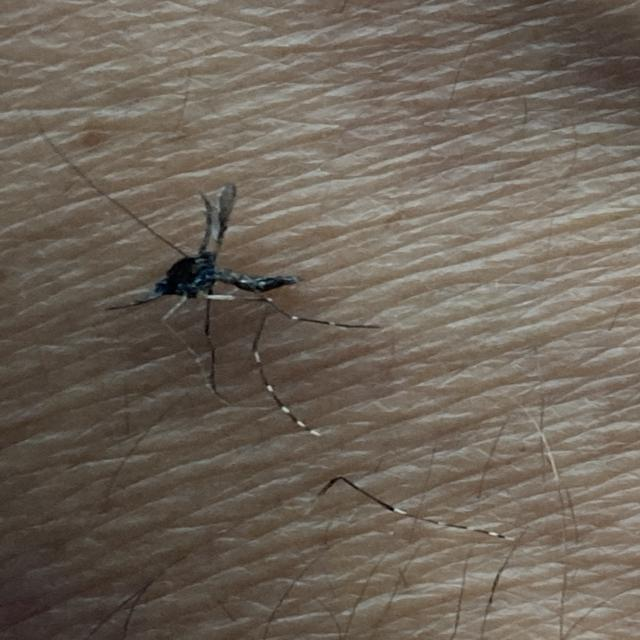albopictus: (96, 172, 388, 442)
